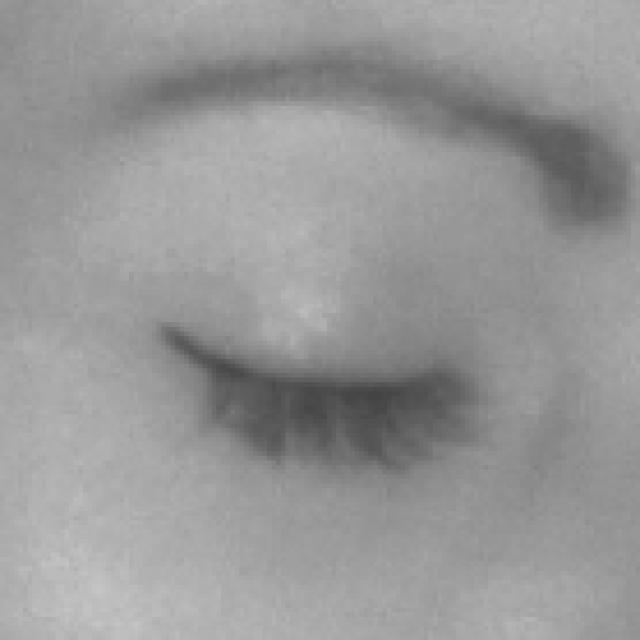close: (41, 28, 640, 543)
